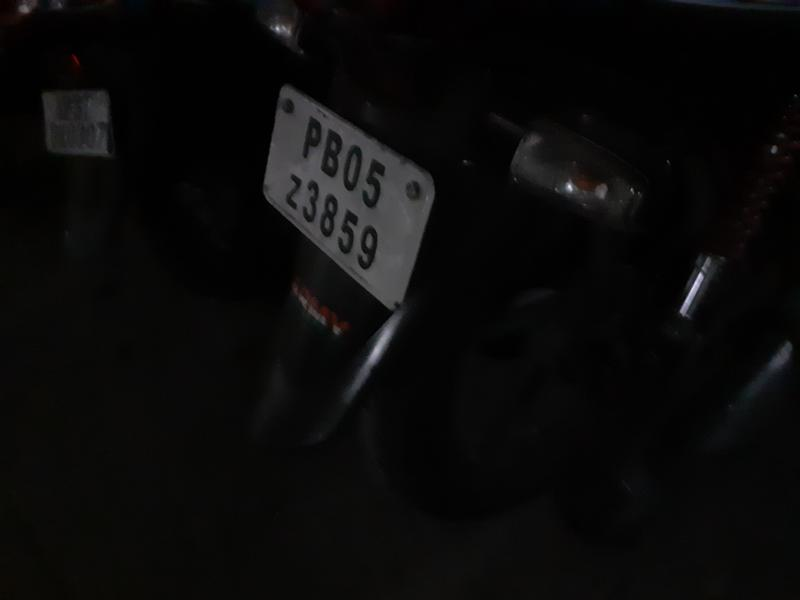numberplate: (263, 82, 432, 306)
